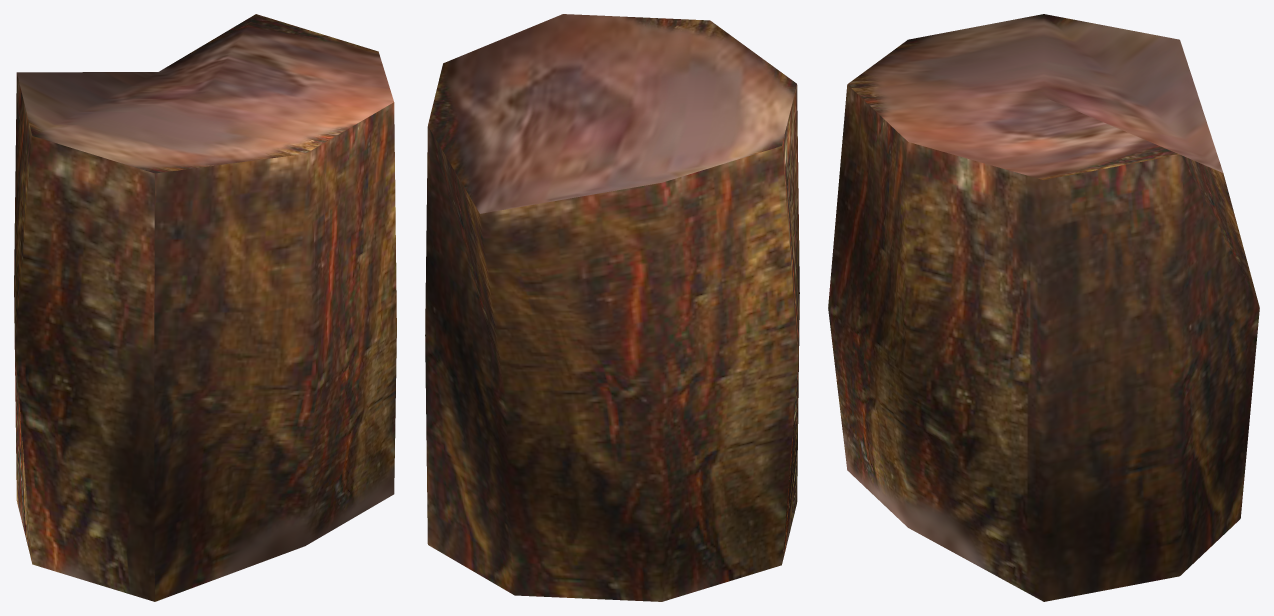
File: wood.fbx
3 views of the same model, side by side, from view 1: azimuth 30°, elevation 25°; view 2: azimuth 150°, elevation 25°; view 3: azimuth 270°, elevation 25° (orthographic). The views are drawn at different scales.
Visible parts, largest first — view 1: Cube; view 2: Cube; view 3: Cube.
Boxes of the visible parts, <box> form: Cube: <box>14,14,396,601</box>; Cube: <box>425,14,799,601</box>; Cube: <box>828,14,1259,601</box>.
Bounding box in the file's own units: 1.32 × 1.46 × 1.32.
